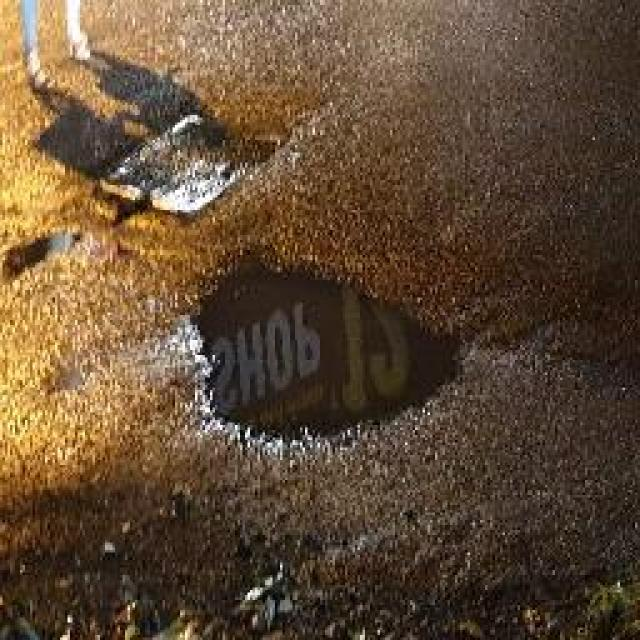puddle: (182, 263, 464, 449)
